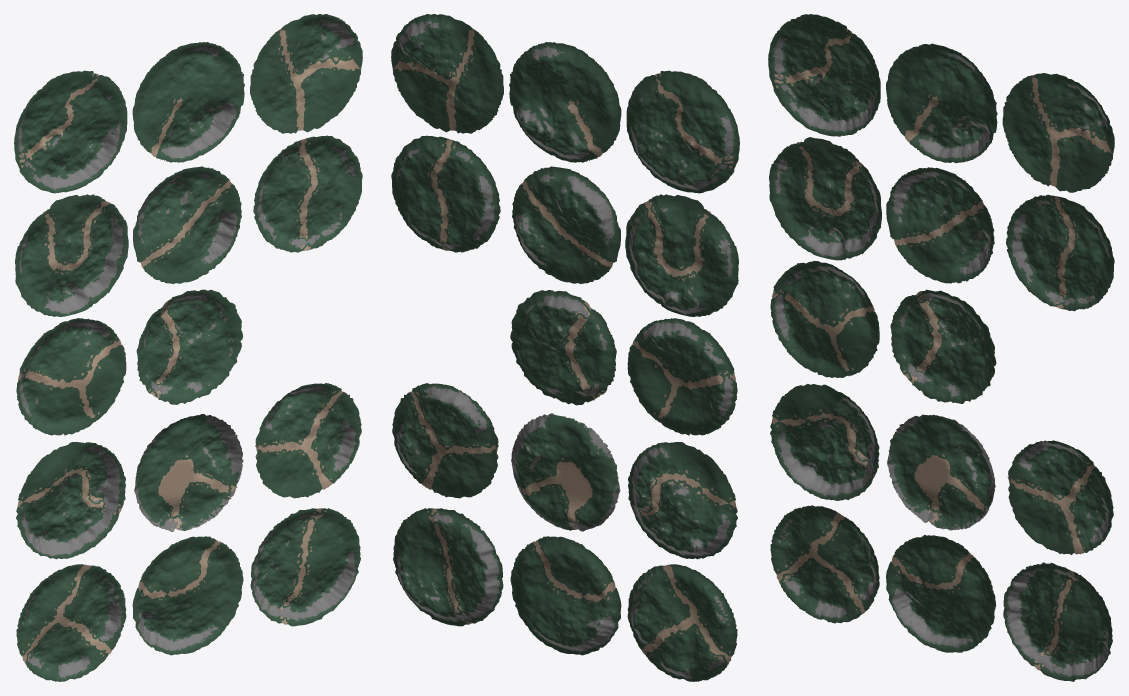
File: Paths.fbx
The picture shows the model from 3 angles, left to right: view 1: azimuth 30°, elevation 25°; view 2: azimuth 150°, elevation 25°; view 3: azimuth 330°, elevation 25°; orthographic projection.
Visible parts, largest first — view 1: Trail 02, Trail 04, Trail 07, Trail 12, Trail 14, Trail 09, Trail 03, Trail 05, Trail 06, Trail 08, Trail 13, Trail 10 (+2 smaller); view 2: Trail 02, Trail 04, Trail 07, Trail 12, Trail 14, Trail 09, Trail 03, Trail 05, Trail 06, Trail 08, Trail 13, Trail 10 (+2 smaller); view 3: Trail 02, Trail 04, Trail 07, Trail 12, Trail 14, Trail 09, Trail 03, Trail 05, Trail 06, Trail 08, Trail 13, Trail 10 (+2 smaller).
Part boxes in pixels (left/top/right/bottom): Trail 02: left=14, top=70, right=127, bottom=193; Trail 04: left=15, top=194, right=128, bottom=316; Trail 07: left=132, top=42, right=244, bottom=162; Trail 12: left=250, top=14, right=362, bottom=133; Trail 14: left=250, top=508, right=360, bottom=626; Trail 09: left=132, top=536, right=243, bottom=655; Trail 03: left=16, top=564, right=126, bottom=681; Trail 05: left=16, top=442, right=125, bottom=559; Trail 06: left=16, top=318, right=126, bottom=435; Trail 08: left=133, top=166, right=241, bottom=283; Trail 13: left=253, top=135, right=362, bottom=252; Trail 10: left=134, top=414, right=243, bottom=531; Trail 02: left=626, top=70, right=739, bottom=193; Trail 04: left=625, top=194, right=738, bottom=316; Trail 07: left=509, top=42, right=621, bottom=162; Trail 12: left=391, top=14, right=503, bottom=133; Trail 14: left=393, top=508, right=503, bottom=626; Trail 09: left=510, top=536, right=621, bottom=655; Trail 03: left=627, top=564, right=737, bottom=681; Trail 05: left=628, top=442, right=737, bottom=559; Trail 06: left=627, top=318, right=737, bottom=435; Trail 08: left=512, top=166, right=620, bottom=283; Trail 13: left=391, top=135, right=500, bottom=252; Trail 10: left=511, top=413, right=620, bottom=531; Trail 02: left=768, top=14, right=880, bottom=136; Trail 04: left=769, top=137, right=881, bottom=260; Trail 07: left=886, top=43, right=997, bottom=163; Trail 12: left=1002, top=73, right=1114, bottom=192; Trail 14: left=1003, top=562, right=1112, bottom=681; Trail 09: left=886, top=535, right=996, bottom=652; Trail 03: left=770, top=505, right=879, bottom=623; Trail 05: left=770, top=384, right=879, bottom=500; Trail 06: left=770, top=261, right=879, bottom=377; Trail 08: left=886, top=167, right=994, bottom=283; Trail 13: left=1006, top=194, right=1114, bottom=311; Trail 10: left=887, top=414, right=995, bottom=530.
Size of the model in its own units: 593 by 992 by 32.55.
